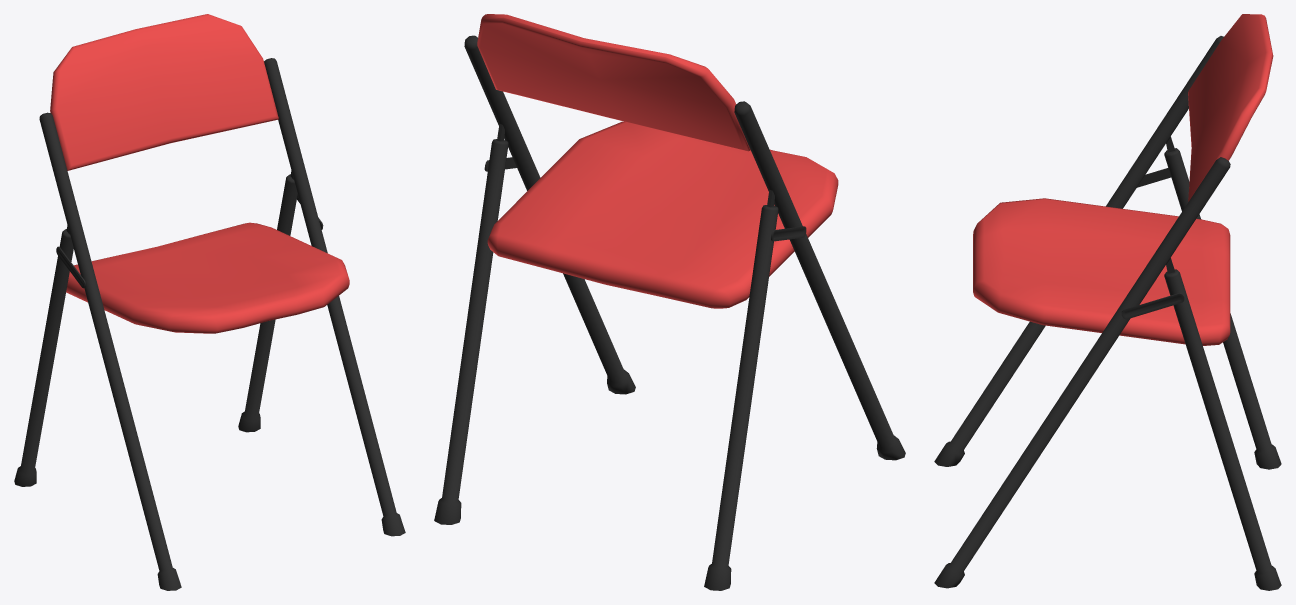
Rendered from chair_folding.glb.
3 renders of one model, left to right at view 1: azimuth 30°, elevation 25°; view 2: azimuth 150°, elevation 25°; view 3: azimuth 270°, elevation 25°, orthographic. The views are drawn at different scales.
Parts seen in each view (by area): view 1: secondary, primary; view 2: secondary, primary; view 3: secondary, primary.
Boxes of the visible parts, x1,y1,x2,y2 form: secondary: (50, 14, 349, 333); primary: (14, 58, 405, 590); secondary: (477, 14, 838, 308); primary: (434, 35, 905, 590); secondary: (973, 14, 1273, 345); primary: (934, 36, 1281, 590).
Size of the model in its own units: 0.4291 by 0.7169 by 0.4764.
